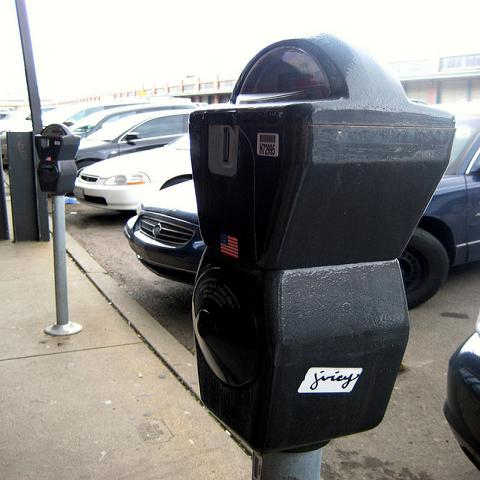car: (126, 117, 479, 310), (74, 136, 193, 210), (73, 106, 202, 168), (436, 314, 479, 472), (69, 102, 200, 141), (37, 98, 170, 128)
